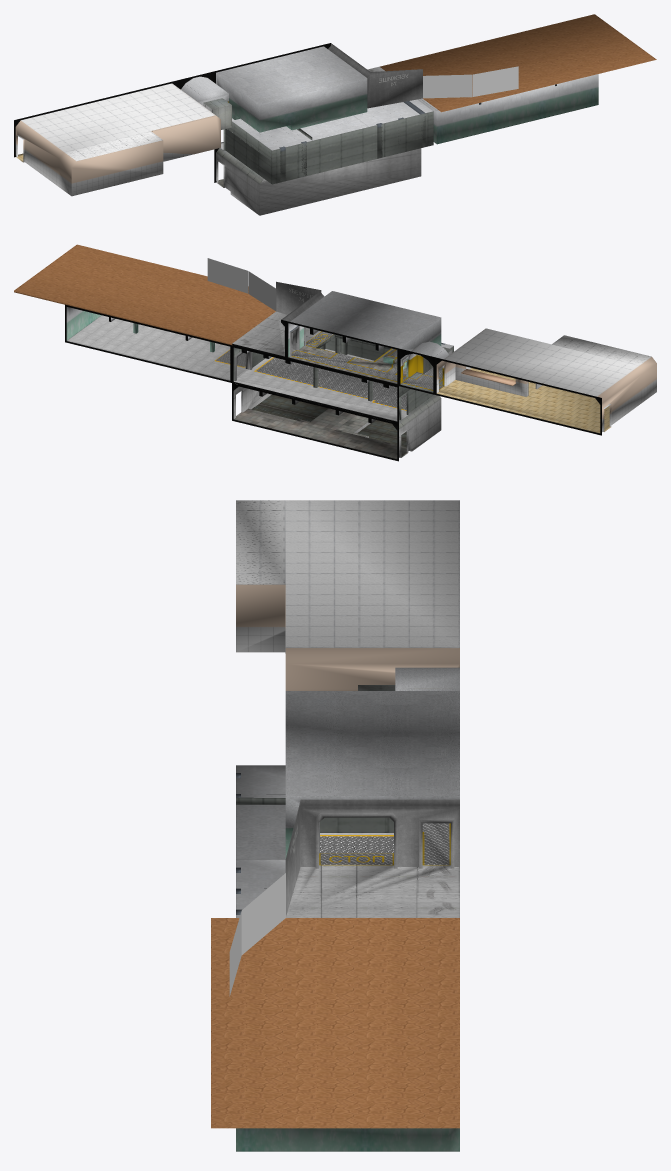
The model's file is Shelter.fbx.
3 views of the same model, one above another, from view 1: azimuth 30°, elevation 25°; view 2: azimuth 150°, elevation 25°; view 3: azimuth 270°, elevation 25° (orthographic). The views are drawn at different scales.
Parts seen in each view (by area): view 1: Столовая.5, вход пол, Гараж, Вход Зал, Генератор, Sclad, ВходВубежище, лифт 1.1, Забор, Забор.2; view 2: Столовая.5, вход пол, Вход Зал, Генератор, Гараж, Sclad, ВходВубежище, лифт 1.1, Забор.2, Забор; view 3: вход пол, Столовая.5, Вход Зал, ВходВубежище, Гараж, Sclad, Забор, лифт 1.1.
Part boxes in pixels (<box>): Столовая.5: <box>14,80,220,196</box>; вход пол: <box>380,14,656,112</box>; Гараж: <box>220,99,433,184</box>; Вход Зал: <box>214,44,367,132</box>; Генератор: <box>214,148,421,215</box>; Sclad: <box>418,74,598,144</box>; ВходВубежище: <box>325,43,422,108</box>; лифт 1.1: <box>179,71,231,129</box>; Забор: <box>423,74,472,98</box>; Забор.2: <box>472,66,518,96</box>; Столовая.5: <box>435,328,656,435</box>; вход пол: <box>14,244,275,345</box>; Вход Зал: <box>286,291,441,385</box>; Генератор: <box>232,383,441,461</box>; Гараж: <box>232,334,453,423</box>; Sclad: <box>65,304,248,382</box>; ВходВубежище: <box>232,281,324,358</box>; лифт 1.1: <box>399,341,452,394</box>; Забор.2: <box>207,258,247,293</box>; Забор: <box>248,271,276,311</box>; вход пол: <box>211,918,459,1128</box>; Столовая.5: <box>236,500,459,690</box>; Вход Зал: <box>285,691,459,865</box>; ВходВубежище: <box>285,799,459,917</box>; Гараж: <box>236,765,393,917</box>; Sclad: <box>236,1128,459,1151</box>; Забор: <box>241,873,285,954</box>; лифт 1.1: <box>358,667,459,690</box>.
Size of the model in its own units: 5388 by 1002 by 1000.
